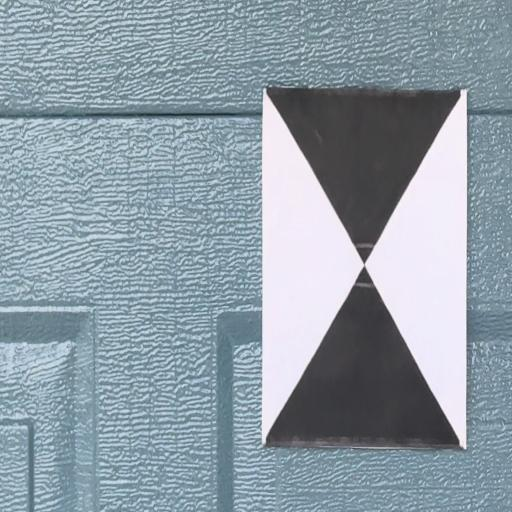target: (264, 89, 467, 450)
